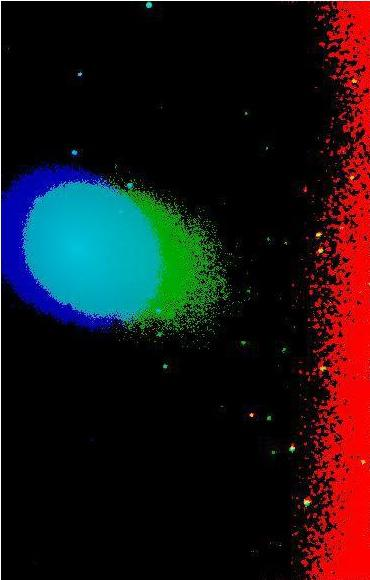star: (236, 400, 266, 430)
